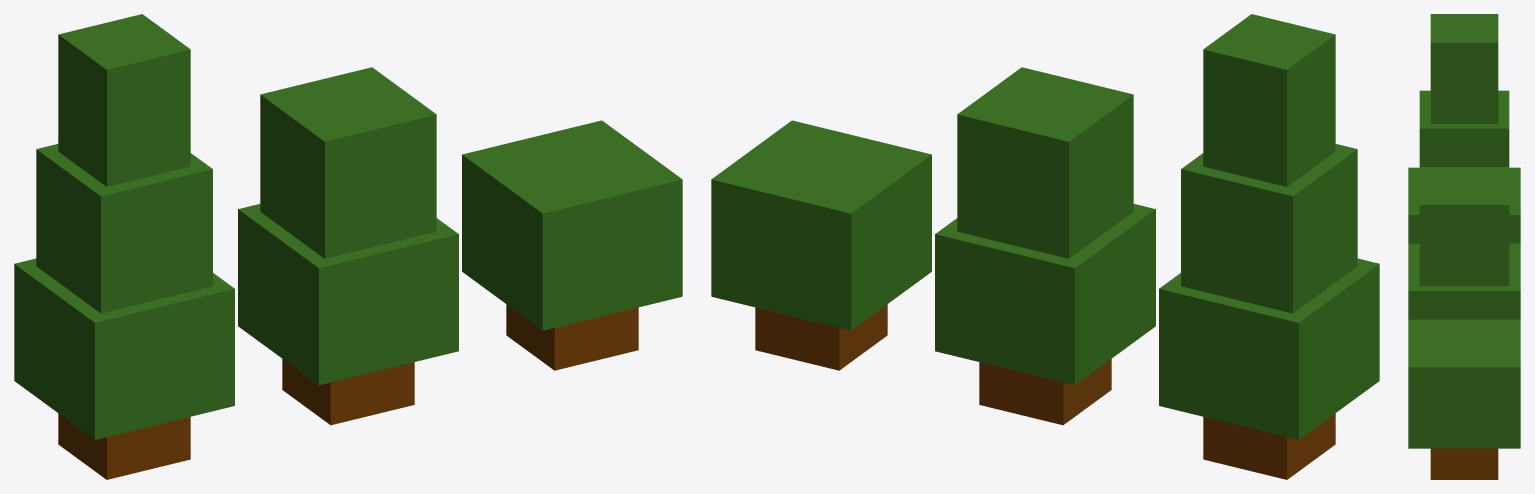
File: tree-rev2.FBX
3 renders of one model, left to right at view 1: azimuth 30°, elevation 25°; view 2: azimuth 150°, elevation 25°; view 3: azimuth 270°, elevation 25°, orthographic. The views are drawn at different scales.
Parts seen in each view (by area): view 1: Box108, Box106, Box102, Box105, Box104, Box101, Box109, Box107, Box103; view 2: Box108, Box106, Box102, Box105, Box104, Box101, Box109, Box107, Box103; view 3: Box108, Box105, Box101, Box106, Box104, Box109, Box102.
Part boxes in pixels (left/top/right/bottom): Box108: left=462, top=120, right=682, bottom=330; Box106: left=238, top=204, right=458, bottom=385; Box102: left=14, top=258, right=234, bottom=439; Box105: left=260, top=67, right=436, bottom=258; Box104: left=36, top=144, right=212, bottom=313; Box101: left=58, top=14, right=190, bottom=186; Box109: left=506, top=304, right=638, bottom=370; Box107: left=282, top=359, right=414, bottom=425; Box103: left=58, top=413, right=190, bottom=479; Box108: left=711, top=120, right=931, bottom=330; Box106: left=935, top=204, right=1155, bottom=385; Box102: left=1159, top=258, right=1379, bottom=439; Box105: left=957, top=67, right=1133, bottom=258; Box104: left=1181, top=144, right=1357, bottom=313; Box101: left=1203, top=14, right=1335, bottom=186; Box109: left=755, top=304, right=887, bottom=370; Box107: left=979, top=359, right=1111, bottom=425; Box103: left=1203, top=413, right=1335, bottom=479; Box108: left=1408, top=319, right=1520, bottom=448; Box105: left=1419, top=167, right=1509, bottom=286; Box101: left=1430, top=14, right=1498, bottom=123; Box106: left=1408, top=243, right=1520, bottom=319; Box104: left=1419, top=90, right=1509, bottom=166; Box109: left=1430, top=448, right=1498, bottom=479; Box102: left=1408, top=167, right=1520, bottom=243.
Size of the model in its own units: 4.2 by 2.8 by 1.
